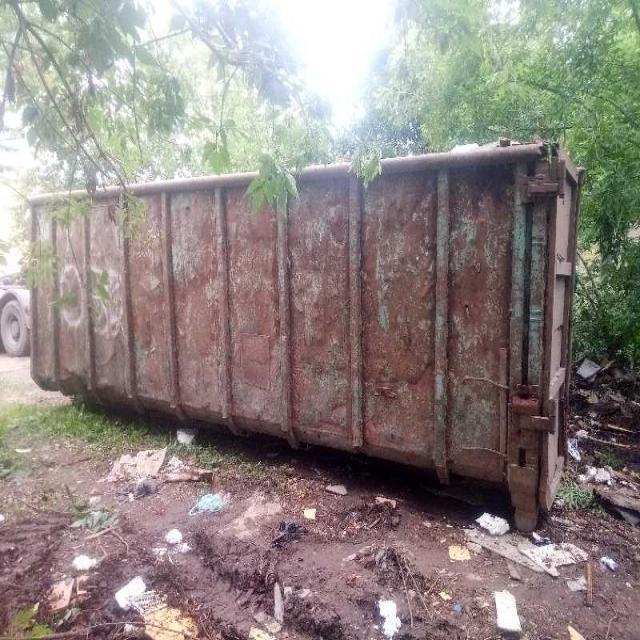Dumpster: (24, 136, 596, 534)
